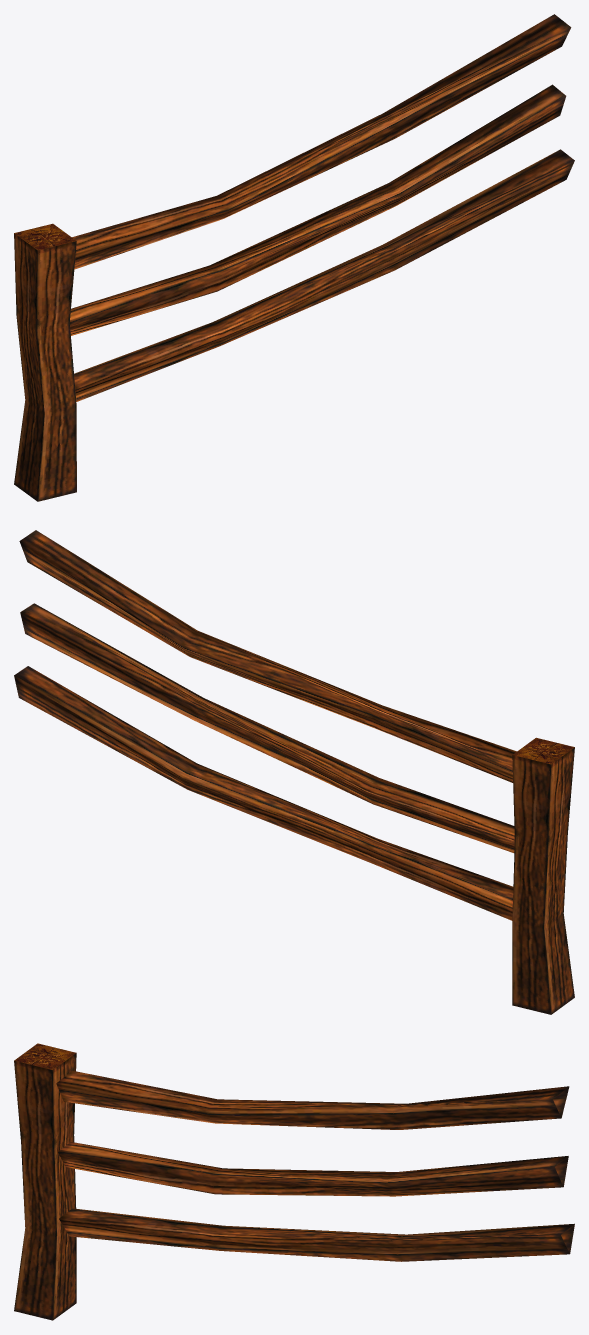
The model's file is INST_HTOWN_FENCEBRN10DEG.fbx.
3 renders of one model, top to bottom at view 1: azimuth 30°, elevation 25°; view 2: azimuth 150°, elevation 25°; view 3: azimuth 330°, elevation 25°, orthographic.
Parts seen in each view (by area): view 1: INST_HTOWN_FENCEBRN10DEG; view 2: INST_HTOWN_FENCEBRN10DEG; view 3: INST_HTOWN_FENCEBRN10DEG.
Boxes of the visible parts, x1,y1,x2,y2 form: INST_HTOWN_FENCEBRN10DEG: (14,14,574,501); INST_HTOWN_FENCEBRN10DEG: (14,530,574,1014); INST_HTOWN_FENCEBRN10DEG: (14,1043,574,1320).
Size of the model in its own units: 30236 by 18175 by 2372.
2 materials, 2 textured.
